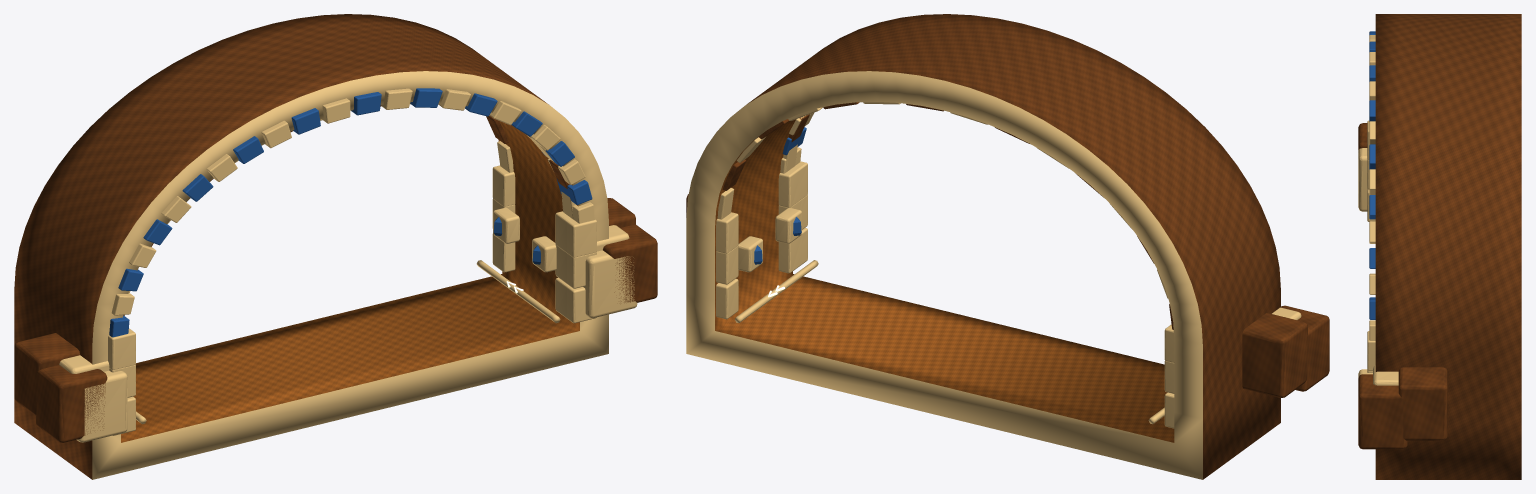
The model's file is portal_entry.glb.
3 views of the same model, side by side, from view 1: azimuth 30°, elevation 25°; view 2: azimuth 150°, elevation 25°; view 3: azimuth 270°, elevation 25° (orthographic). The views are drawn at different scales.
Visible parts, largest first — view 1: TunnelGeometry; view 2: TunnelGeometry; view 3: TunnelGeometry.
Part boxes in pixels (box(x1,y1,x2,y2)): TunnelGeometry: box(14, 14, 657, 479); TunnelGeometry: box(686, 14, 1329, 479); TunnelGeometry: box(1358, 14, 1521, 479).
Bounding box in the file's own units: 17.75 × 9.52 × 4.47.
5 materials, 2 textured.
